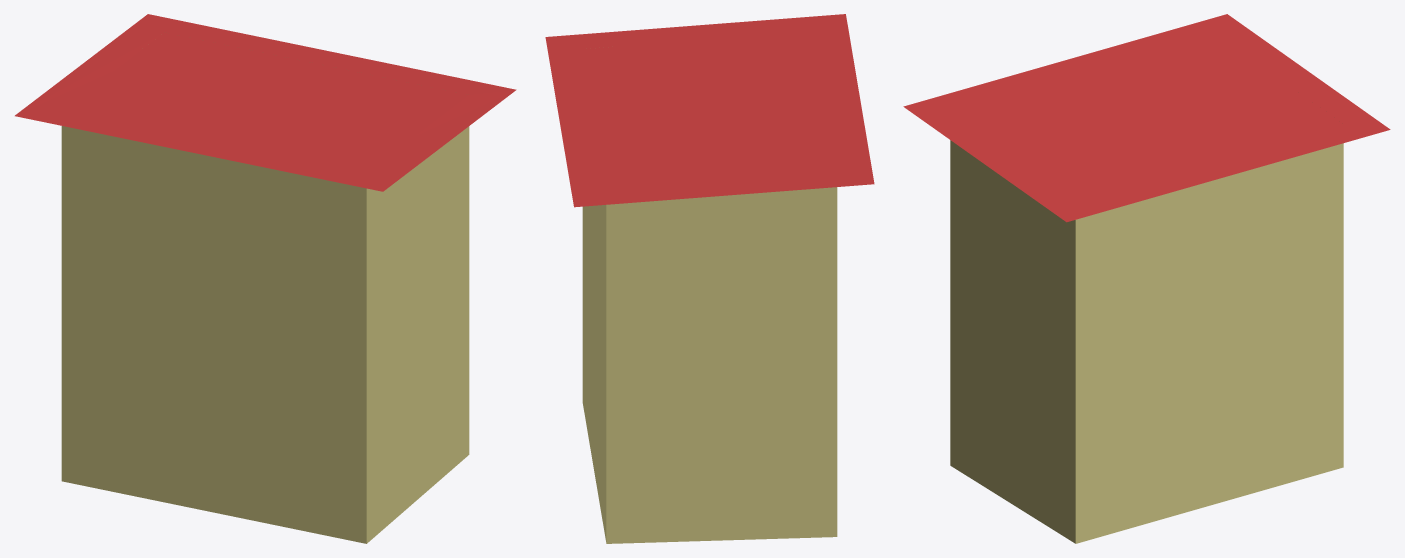
3 views of the same model, side by side, from view 1: azimuth 30°, elevation 25°; view 2: azimuth 150°, elevation 25°; view 3: azimuth 270°, elevation 25° (orthographic). The views are drawn at different scales.
Size of the model in its own units: 6.8 by 7.2 by 5.78.
